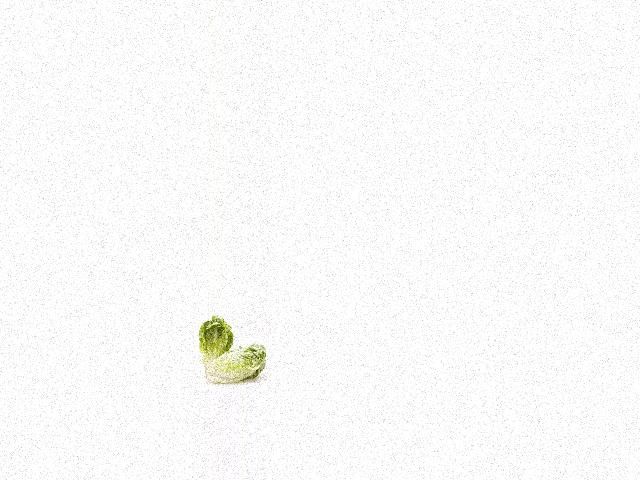lettuce: (200, 339, 270, 385)
